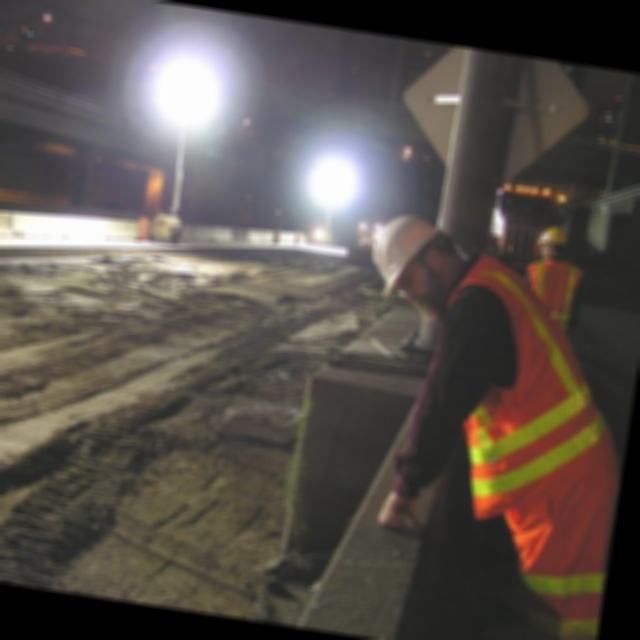Con_Casco: (362, 211, 465, 318), (537, 223, 570, 260)
Con_Chaleco: (425, 258, 614, 528), (521, 257, 583, 332)
